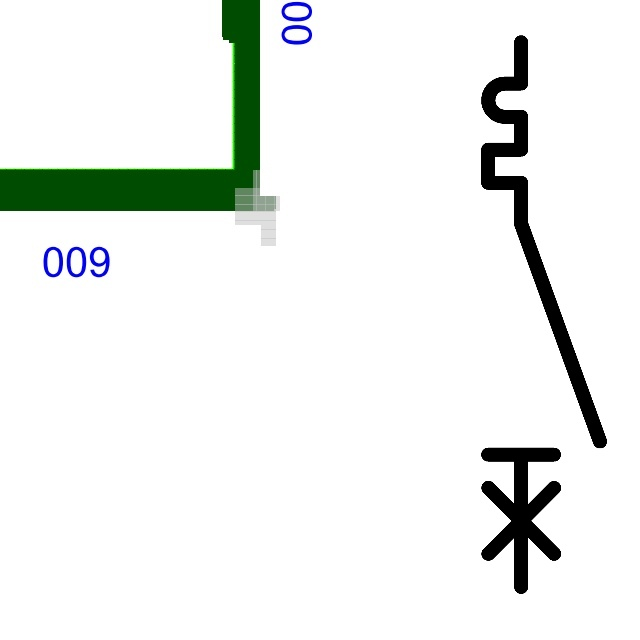interruptor_termomagnetico: (474, 28, 614, 601)
